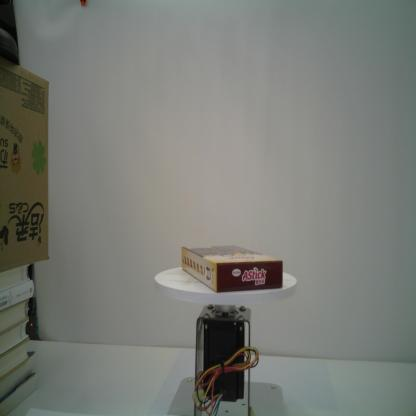Dessert: (180, 242, 285, 296)
